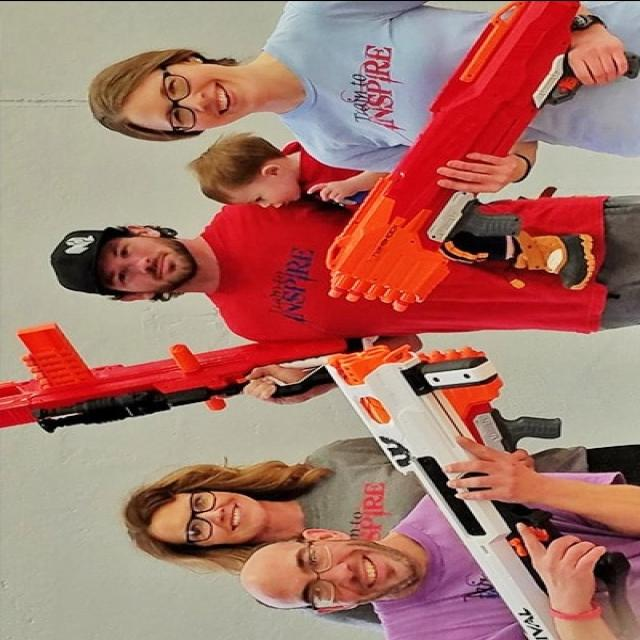Nerf gun: (323, 1, 637, 315), (323, 339, 640, 638), (1, 313, 372, 436)
